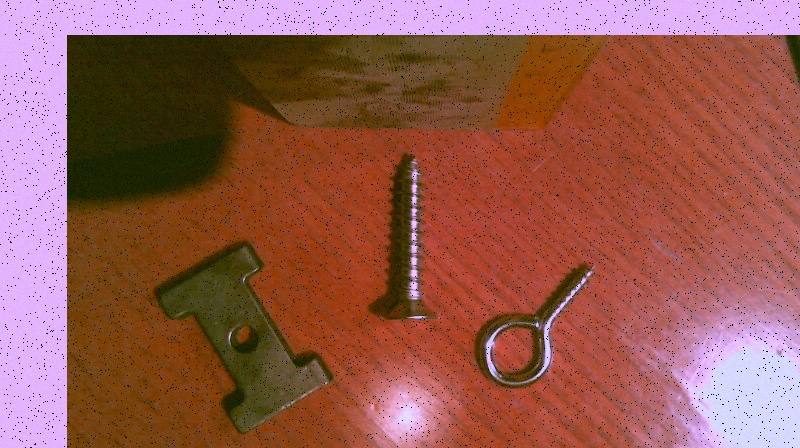O001: (472, 256, 598, 389)
O002: (149, 238, 331, 435)
S001: (379, 150, 441, 326)
